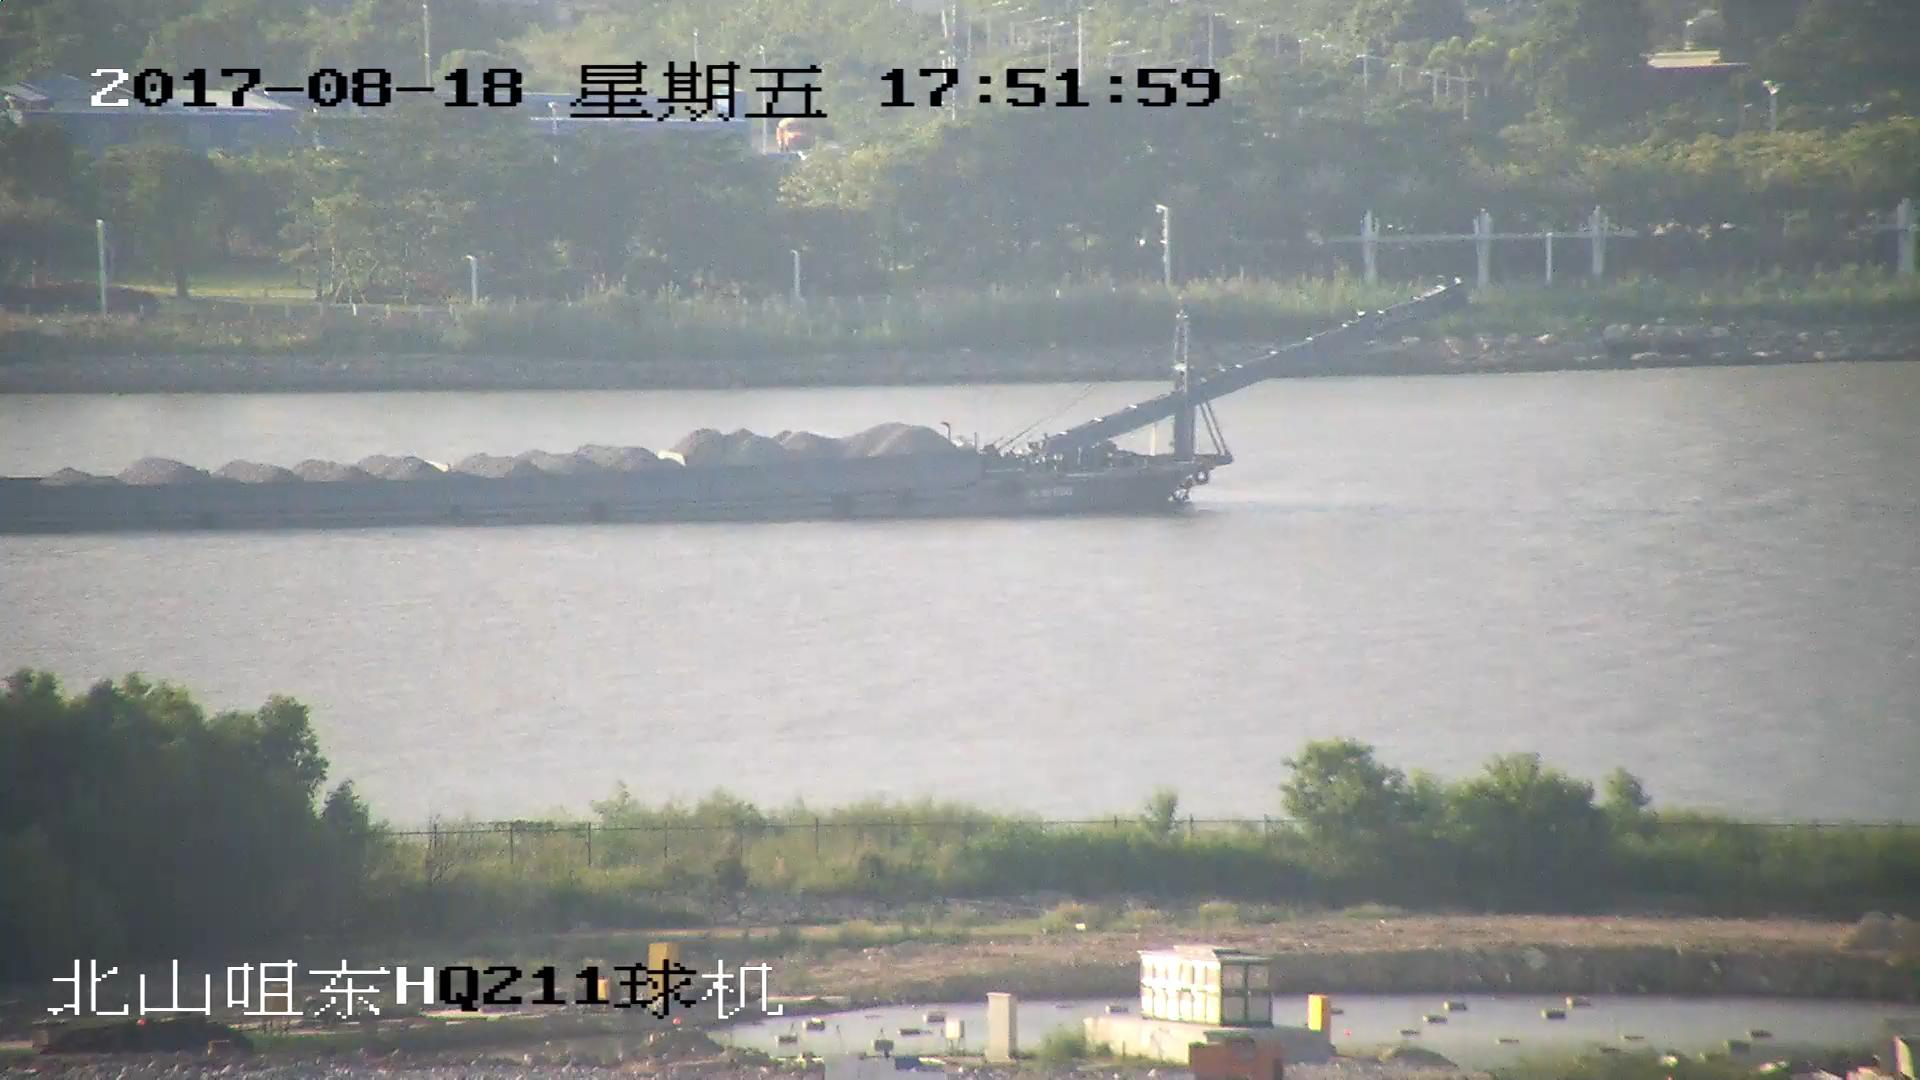Ship: (3, 284, 1462, 533)
